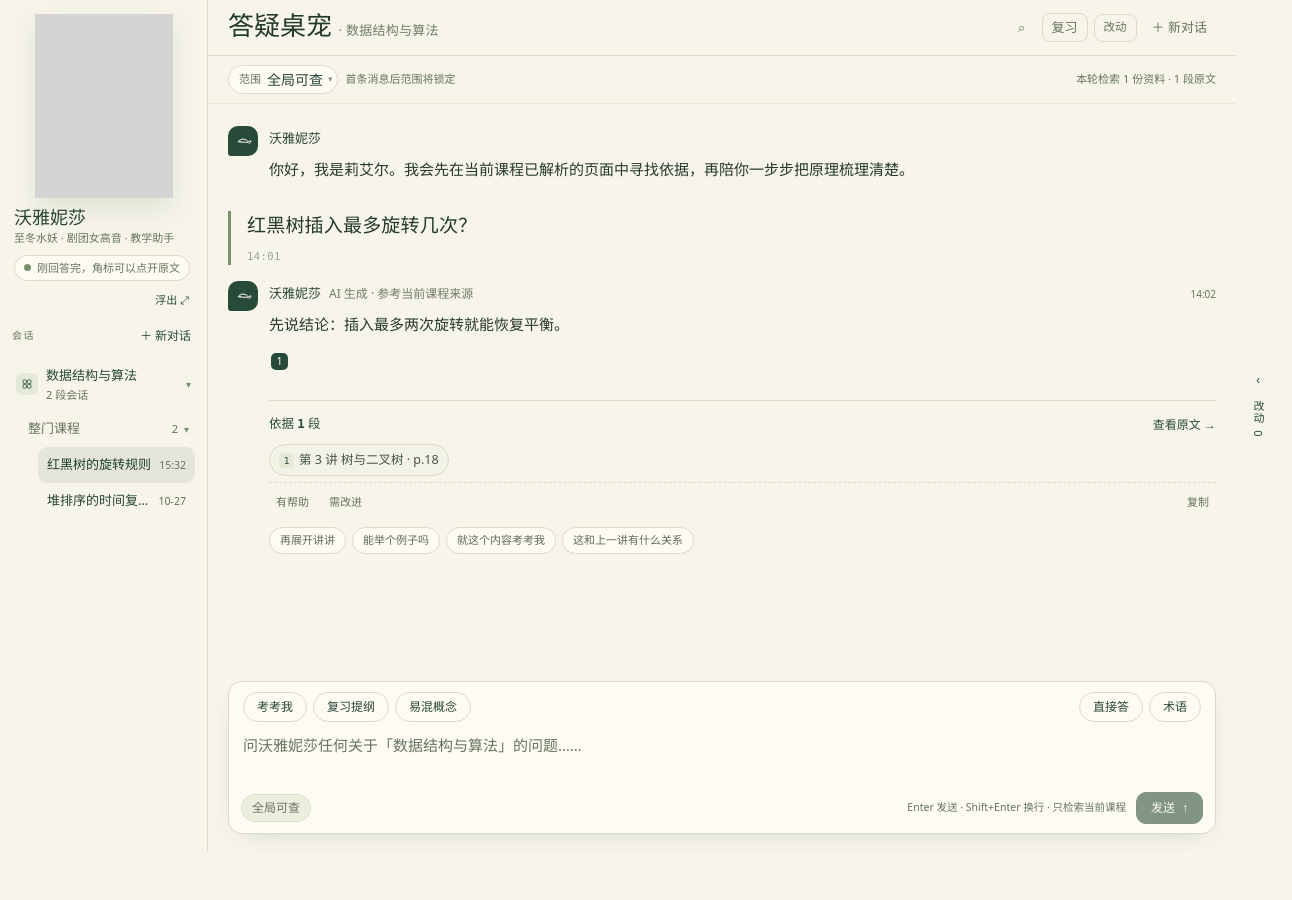
Test case: 追问 chips 只把话术填进输入框，不自动发送
Click the button "能举个例子吗": (396, 541) [352,528,440,554]
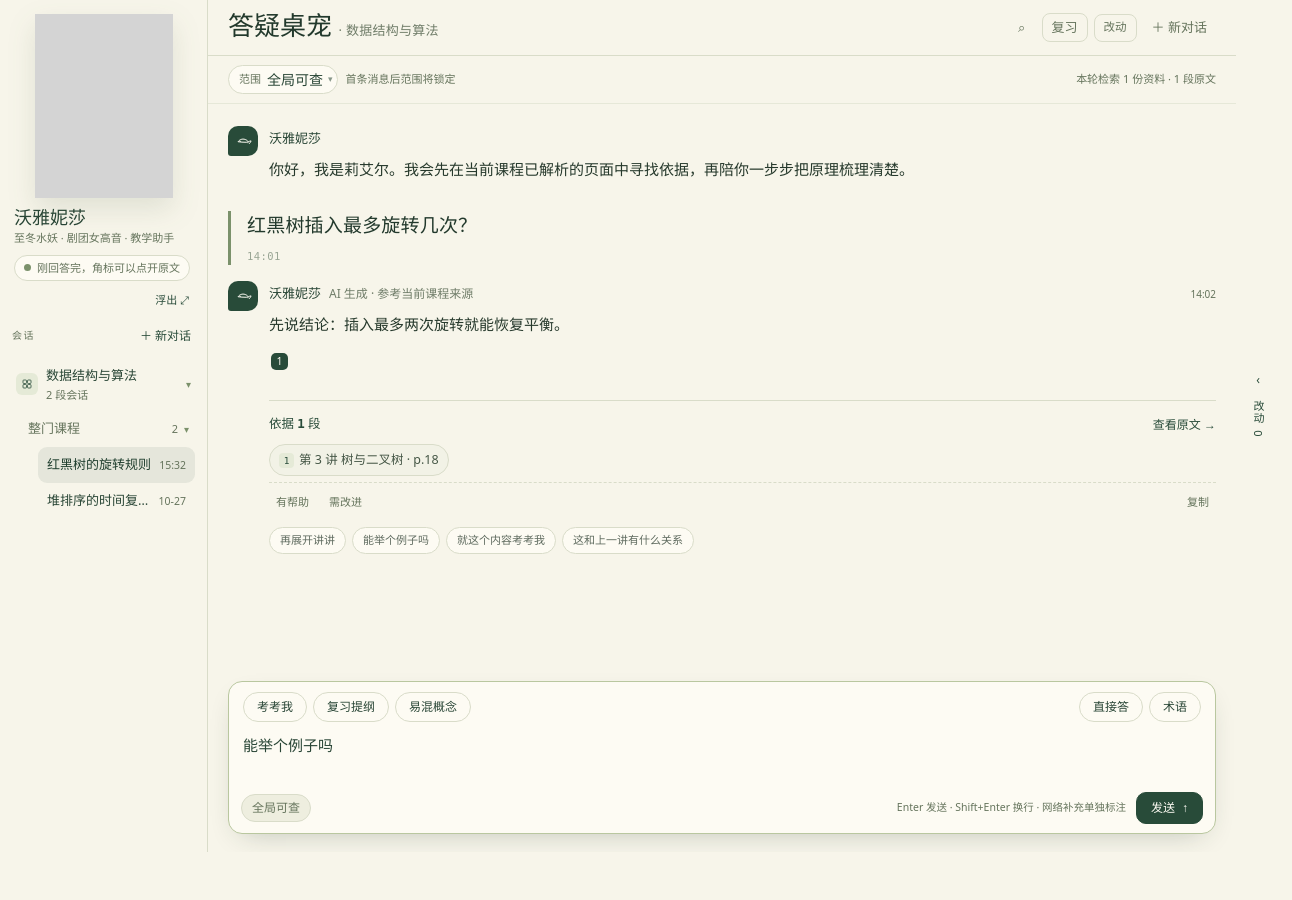
expect the text box named "课程问题" holds "能举个例子吗": met, box [241,730,1203,786]
